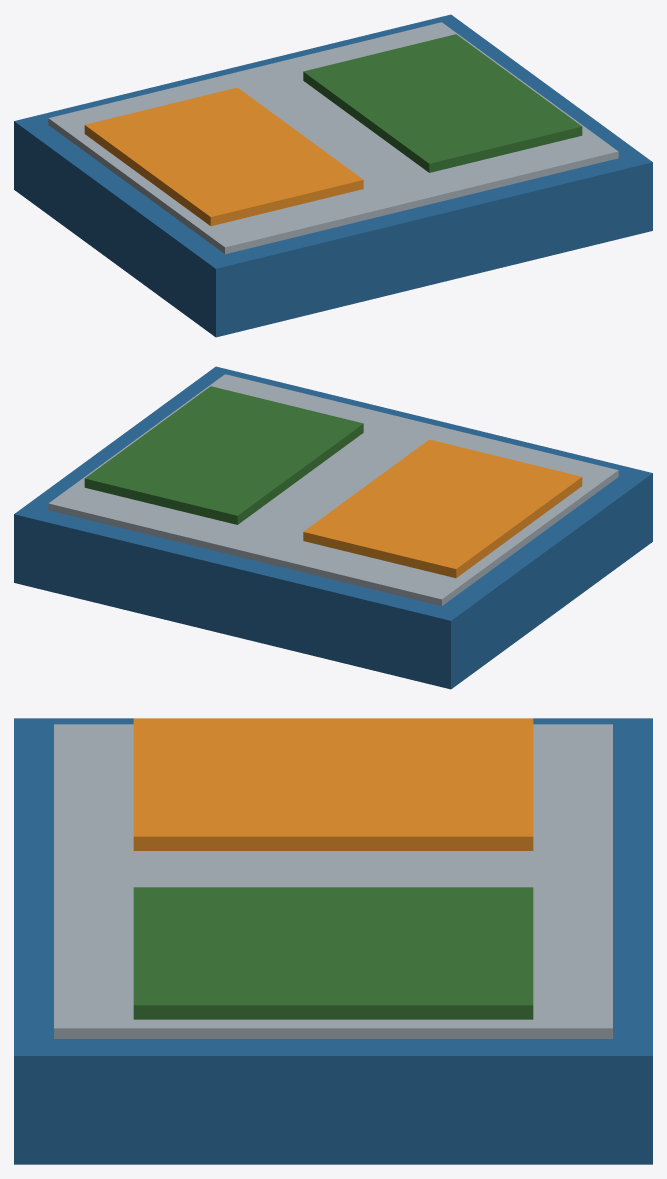
File: FD_TVDinner_01.glb
3 views of the same model, one above another, from view 1: azimuth 30°, elevation 25°; view 2: azimuth 150°, elevation 25°; view 3: azimuth 270°, elevation 25° (orthographic). The views are drawn at different scales.
Parts seen in each view (by area): view 1: FD_TVDinner_01; view 2: FD_TVDinner_01; view 3: FD_TVDinner_01.
Boxes of the visible parts, box(x1,y1,x2,y2) form: FD_TVDinner_01: box(14, 14, 652, 337); FD_TVDinner_01: box(14, 366, 652, 689); FD_TVDinner_01: box(14, 718, 652, 1164).
Size of the model in its own units: 0.2 by 0.037 by 0.16.
1 material, 1 textured.
